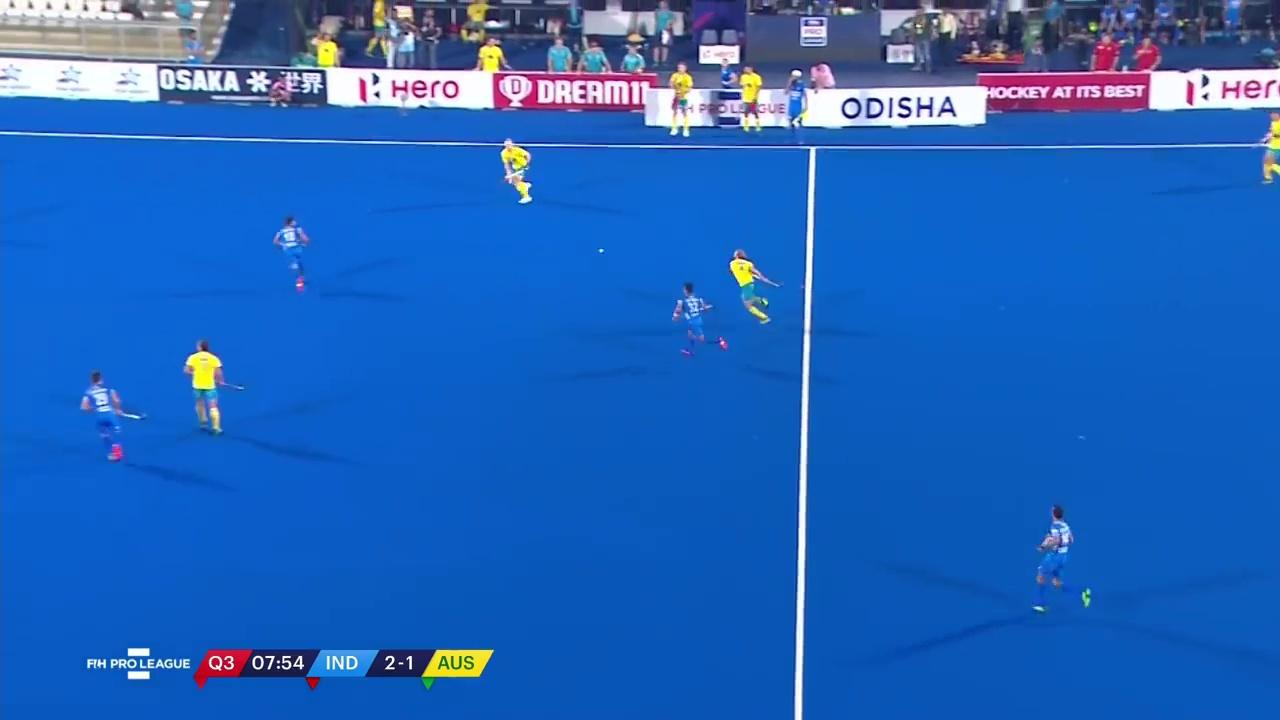ball: (595, 245, 607, 256)
